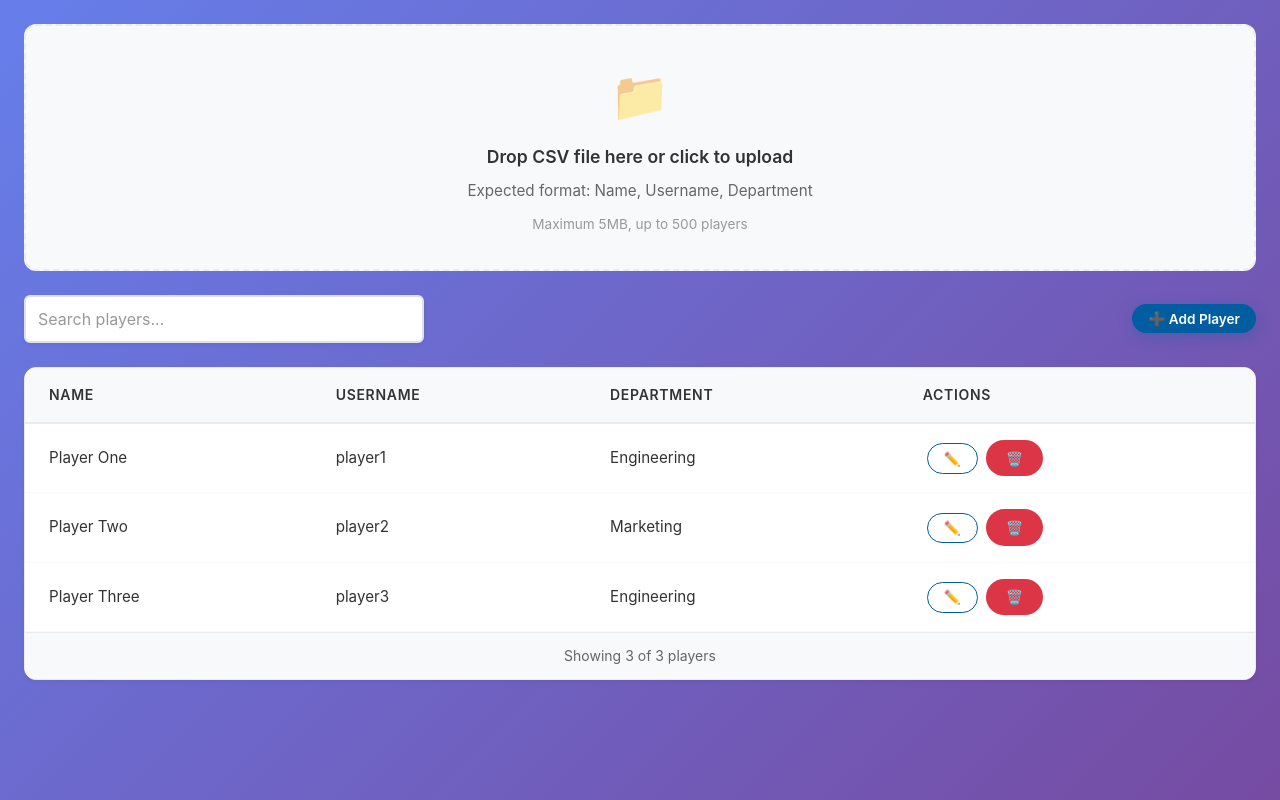
Test case: PlayerManagement Component › Edit Player › should save edited player with valid data
Check: the text "Player One" is shown, box [25,423,312,493]
Click the button "✏️" in the row of "Player One".
click(952, 459)  # box [927,443,978,474]
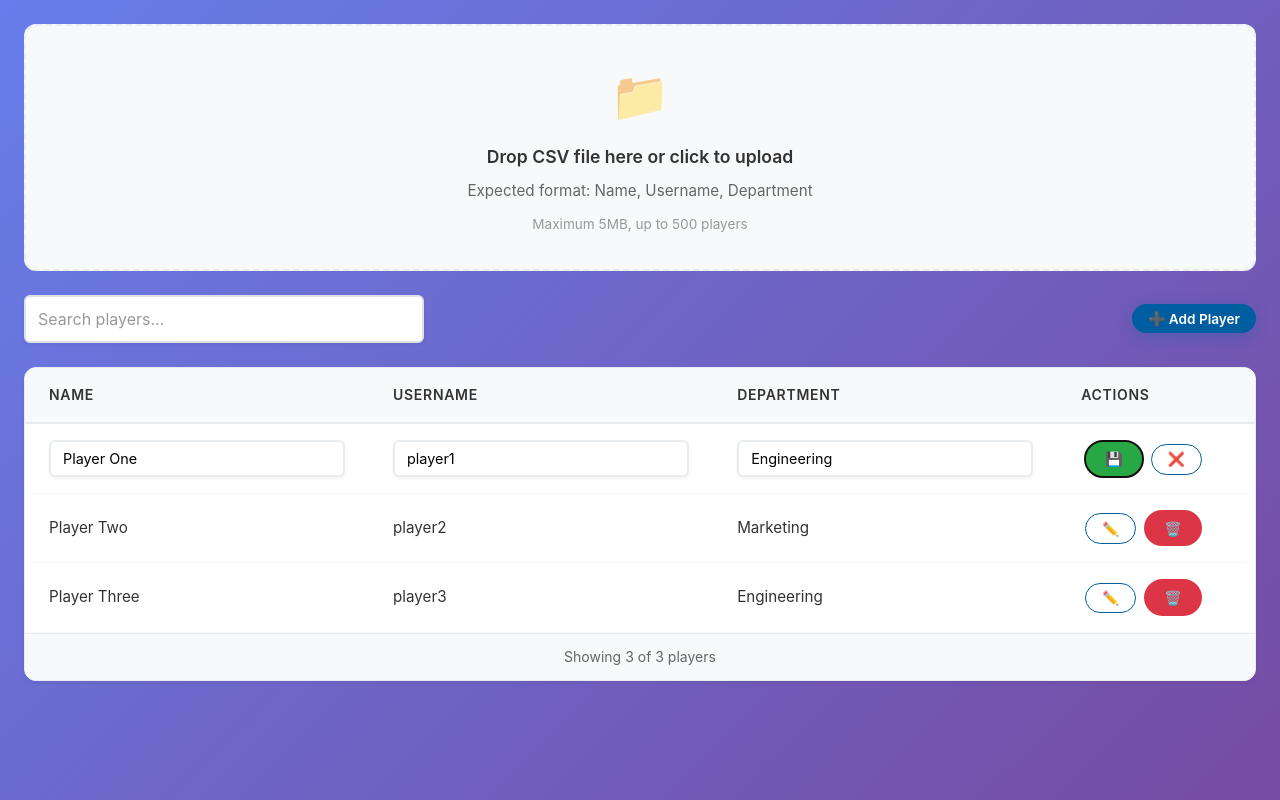
Check: the button "💾" is shown, box [1085,441,1143,477]
